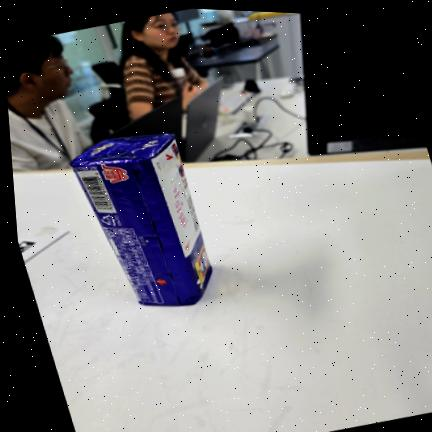cracker_ace: (71, 134, 212, 306)
